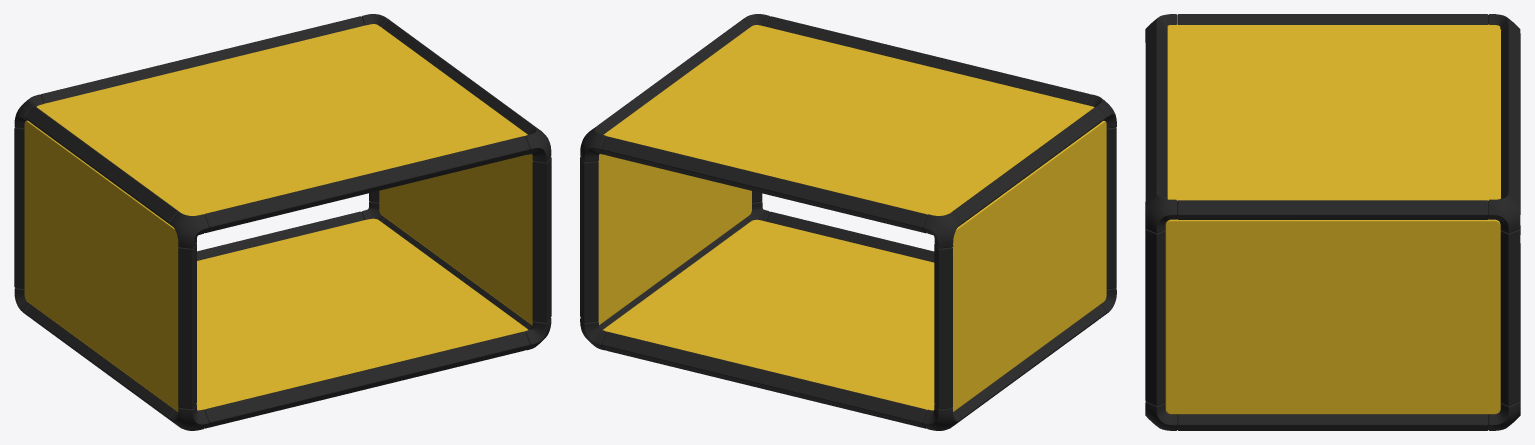
3 renders of one model, left to right at view 1: azimuth 30°, elevation 25°; view 2: azimuth 150°, elevation 25°; view 3: azimuth 270°, elevation 25°, orthographic. The views are drawn at different scales.
Parts seen in each view (by area): view 1: 479x374x229; view 2: 479x374x229; view 3: 479x374x229.
Boxes of the visible parts, x1,y1,x2,y2 form: 479x374x229: [14, 14, 551, 430]; 479x374x229: [580, 14, 1116, 430]; 479x374x229: [1145, 14, 1520, 430].
Bounding box in the file's own units: 0.5567 × 0.3065 × 0.4512.
